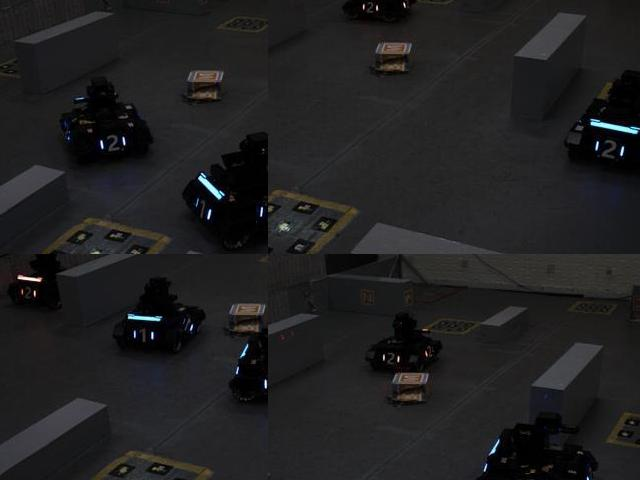armor: (592, 135, 629, 163), (192, 192, 217, 229), (96, 132, 132, 156), (129, 325, 158, 346), (377, 348, 400, 372), (358, 0, 382, 18), (180, 313, 198, 336), (420, 340, 436, 364), (17, 282, 37, 301), (256, 201, 267, 233), (258, 368, 267, 400)
